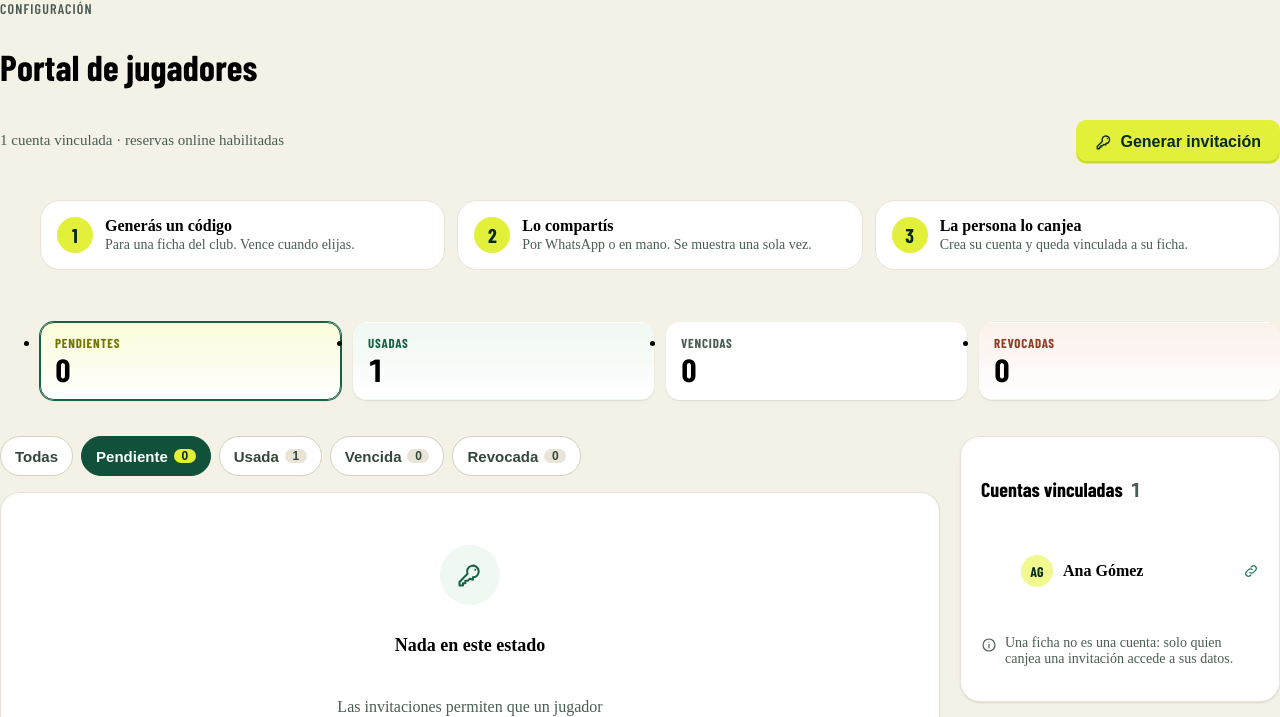
PlayerAccessPanel · invitaciones › no deja invitar a una persona que ya tiene cuenta vinculada
Expected: the text "1 cuenta vinculada · reservas online habilitadas" is shown, [0,132,284,150]
Click the button "Generar invitación" at [1178, 142], box [1076,120,1279,164]
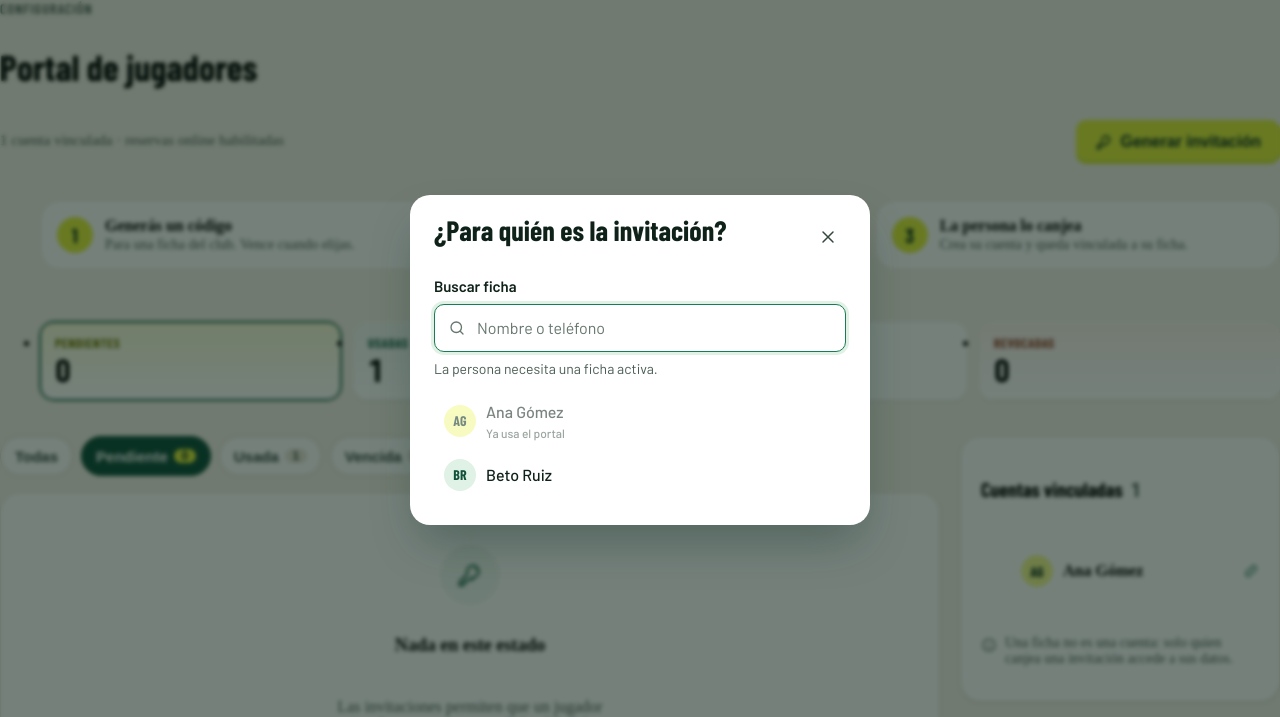
Now the button "AG Ana Gómez Ya usa el portal" is disabled, box [434,395,846,447]
Now the text "Ya usa el portal" is shown, box [486,426,565,440]
